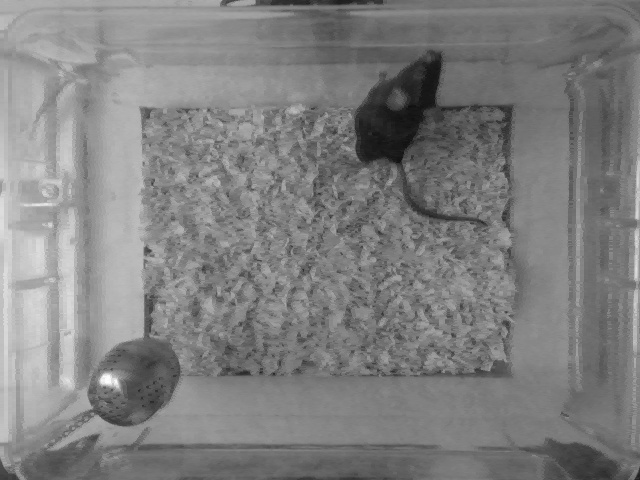mice: (349, 46, 493, 231)
